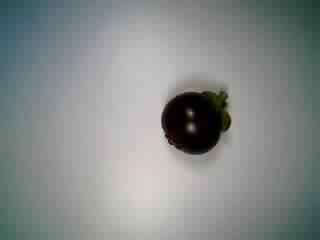mangosteen: (158, 77, 232, 156)
